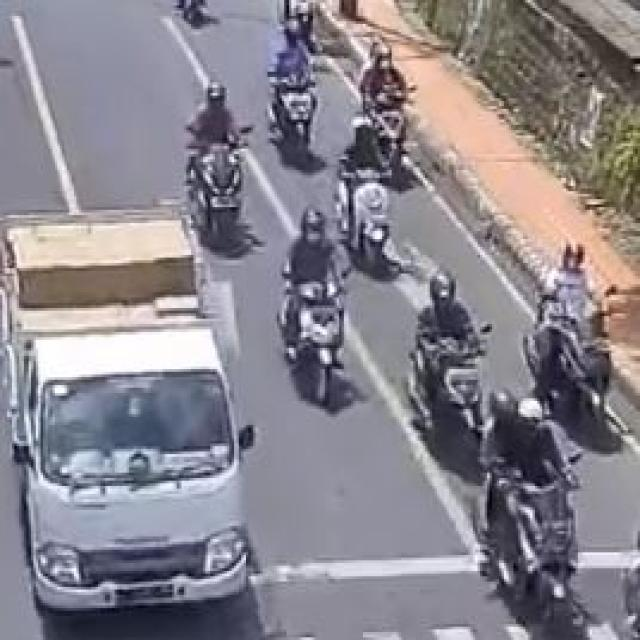car: (0, 213, 254, 614)
motorbike: (485, 395, 591, 639), (520, 234, 624, 417), (268, 203, 348, 428), (406, 270, 482, 467), (185, 81, 254, 226), (258, 35, 338, 158), (361, 44, 418, 168), (333, 163, 398, 267)
